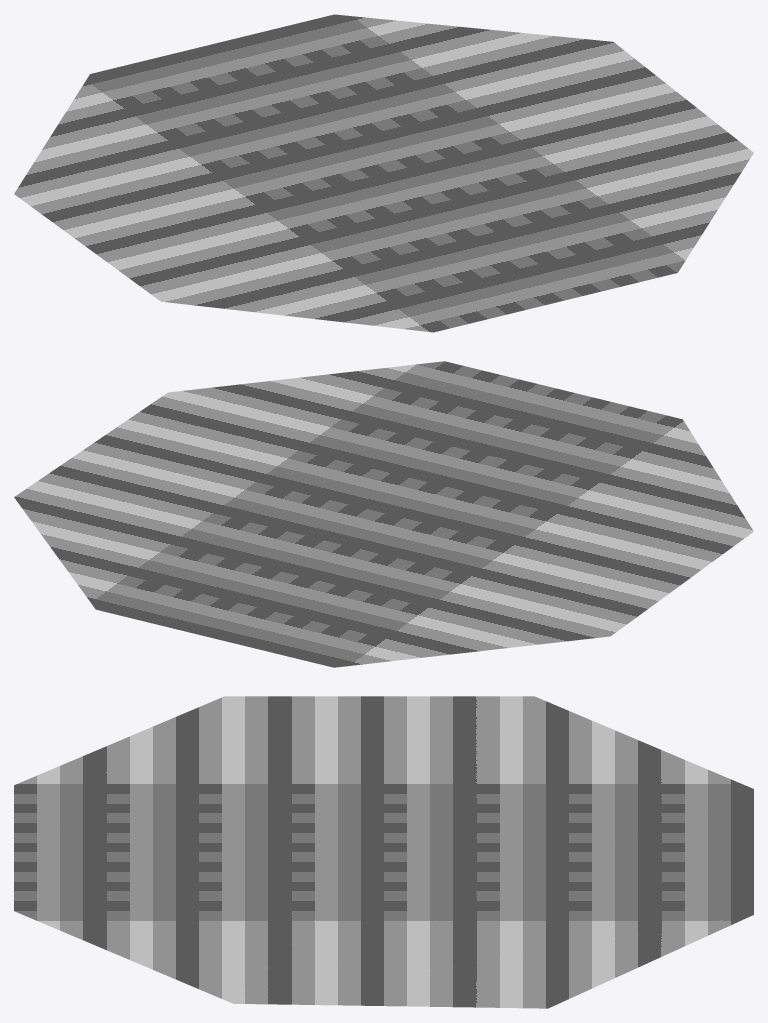
3 renders of one model, top to bottom at view 1: azimuth 30°, elevation 25°; view 2: azimuth 150°, elevation 25°; view 3: azimuth 270°, elevation 25°, orthographic. The views are drawn at different scales.
Visible parts, largest first — view 1: ff166d18; view 2: ff166d18; view 3: ff166d18.
Part boxes in pixels (bbox=[...]): ff166d18: bbox=[14, 14, 753, 332]; ff166d18: bbox=[14, 361, 753, 667]; ff166d18: bbox=[14, 696, 753, 1008].
Bounding box in the file's own units: 6.62 × 0.00304 × 6.63.
Materials: 1 (1 with a texture image).
